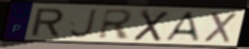A: (163, 10, 202, 42)
J: (68, 8, 99, 40)
R: (97, 8, 136, 40), (29, 8, 66, 37)
X: (132, 8, 171, 43), (203, 11, 239, 44)
